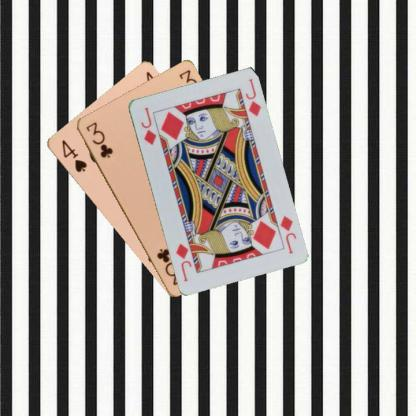3c: (82, 119, 113, 159)
4s: (58, 137, 89, 174)
Jd: (138, 104, 158, 146), (277, 212, 297, 254)
